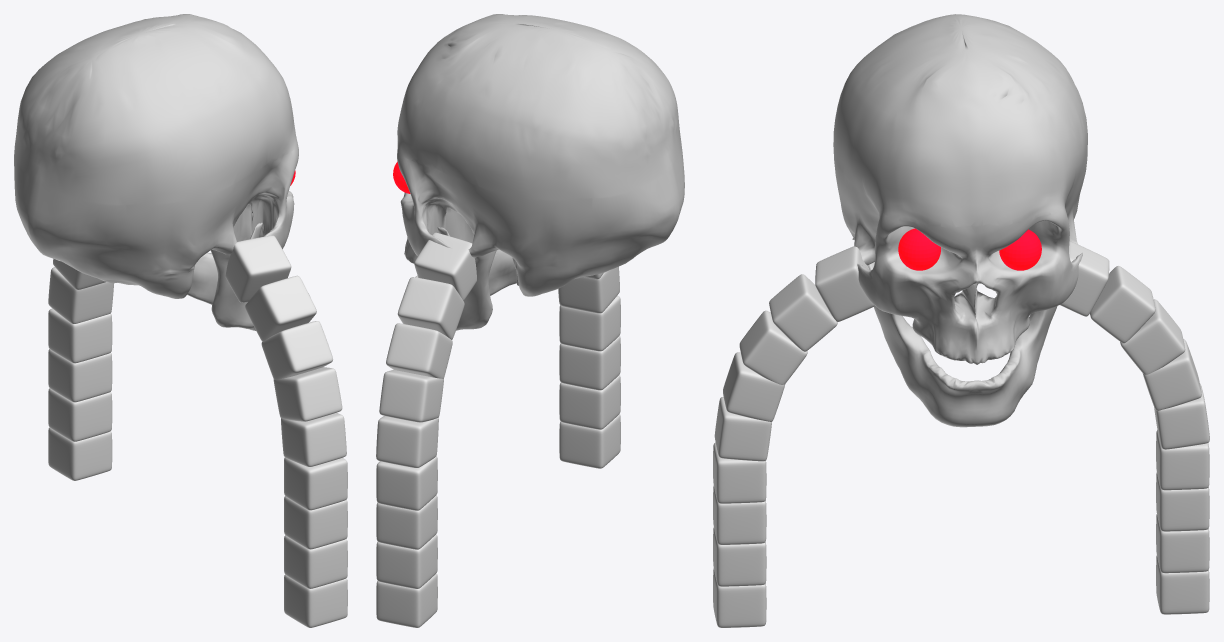
File: SkullWithGate.fbx
The picture shows the model from 3 angles, left to right: view 1: azimuth 30°, elevation 25°; view 2: azimuth 150°, elevation 25°; view 3: azimuth 270°, elevation 25°; orthographic projection. The views are drawn at different scales.
Parts seen in each view (by area): view 1: SKULL002, Cube.107, Cube.108, Cube.105, Cube.106, MACHOIR_NEW002, Cube.104, Cube.092, Cube.093, Cube.087, Cube.085, Cube.091 (+5 smaller); view 2: SKULL002, Cube.112, Cube.111, Cube.110, Cube.109, Cube.113, MACHOIR_NEW002, Cube.093, Cube.087, Cube.086, Cube.090, Cube.091 (+4 smaller); view 3: SKULL002, MACHOIR_NEW002, Cube.107, Cube.112, Cube.106, Cube.108, Cube.105, Cube.111, Cube.104, Cube.092, Cube.093, Cube.110 (+10 smaller).
Part boxes in pixels (x1,y1,x2,y2): SKULL002: (14, 14, 298, 298); Cube.107: (245, 275, 316, 341); Cube.108: (225, 235, 291, 302); Cube.105: (273, 367, 342, 421); Cube.106: (261, 321, 332, 379); MACHOIR_NEW002: (187, 222, 262, 330); Cube.104: (281, 412, 346, 466); Cube.092: (284, 457, 347, 510); Cube.093: (48, 308, 112, 363); Cube.087: (48, 388, 112, 441); Cube.085: (48, 427, 112, 480); Cube.091: (48, 349, 112, 402); SKULL002: (397, 14, 684, 296); Cube.112: (397, 277, 464, 339); Cube.111: (386, 323, 452, 378); Cube.110: (379, 370, 443, 422); Cube.109: (376, 416, 438, 467); Cube.113: (414, 232, 476, 300); MACHOIR_NEW002: (415, 227, 516, 330); Cube.093: (376, 456, 437, 510); Cube.087: (376, 534, 437, 588); Cube.086: (559, 375, 620, 429); Cube.090: (559, 336, 620, 390); Cube.091: (376, 495, 437, 549); SKULL002: (833, 14, 1087, 364); MACHOIR_NEW002: (868, 262, 1057, 427); Cube.107: (769, 274, 837, 351); Cube.112: (1090, 266, 1155, 343); Cube.106: (739, 310, 807, 384); Cube.108: (815, 246, 874, 321); Cube.105: (723, 352, 785, 421); Cube.111: (1120, 299, 1185, 374); Cube.104: (714, 396, 771, 461); Cube.092: (713, 442, 766, 503); Cube.093: (1156, 430, 1209, 490); Cube.110: (1142, 339, 1201, 410).
Size of the model in its own units: 172 by 325 by 264.
